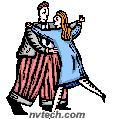person: (25, 8, 107, 108), (5, 1, 54, 110)
